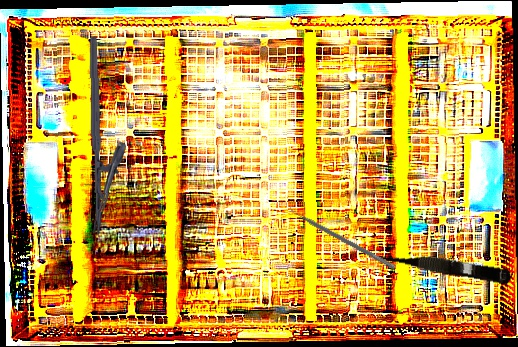Micro Scissor: (367, 243, 513, 286)
Needle Holder: (88, 36, 128, 235)
Spatula Surgical: (286, 204, 399, 270)
